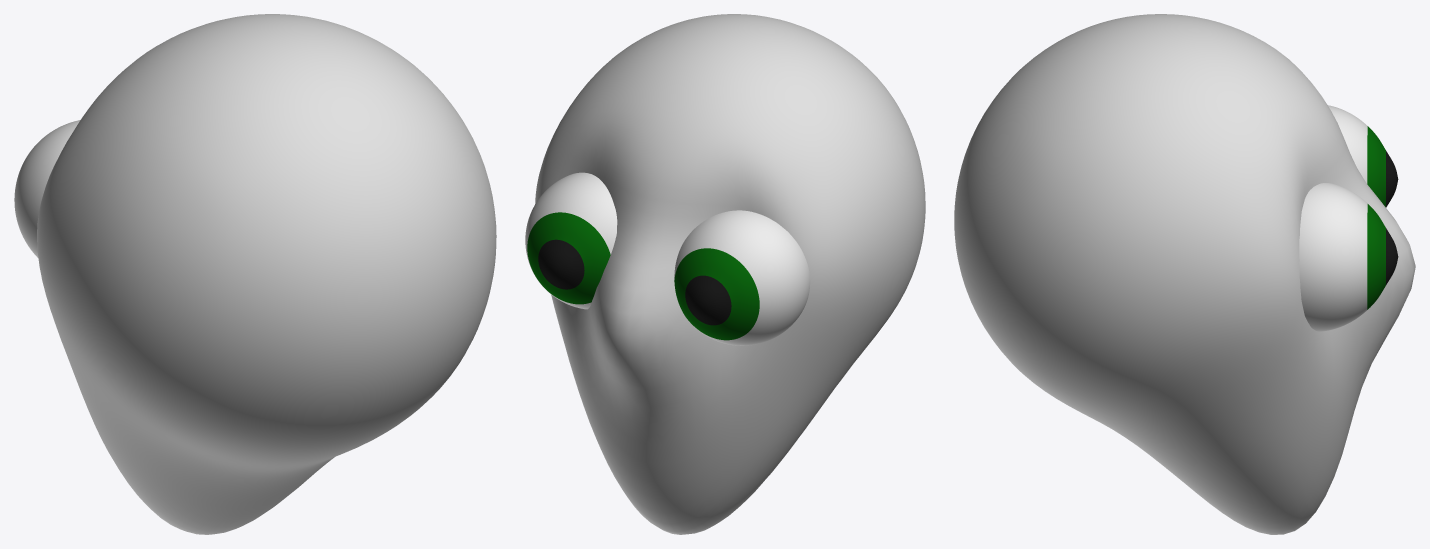
Rendered from 16 Rigging Head Challenge Export.fbx.
The picture shows the model from 3 angles, left to right: view 1: azimuth 30°, elevation 25°; view 2: azimuth 150°, elevation 25°; view 3: azimuth 270°, elevation 25°; orthographic projection. The views are drawn at different scales.
Visible parts, largest first — view 1: Head, Eye.L; view 2: Head, Eye.L, Eye.R; view 3: Head, Eye.R, Eye.L.
Boxes of the visible parts, box(x1,y1,x2,y2) form: Head: box(37, 14, 496, 534); Eye.L: box(14, 120, 80, 258); Head: box(535, 14, 925, 534); Eye.L: box(674, 210, 810, 345); Eye.R: box(525, 172, 617, 309); Head: box(954, 14, 1415, 534); Eye.R: box(1299, 183, 1398, 331); Eye.L: box(1327, 105, 1398, 207).
Size of the model in its own units: 196 by 260 by 219.
